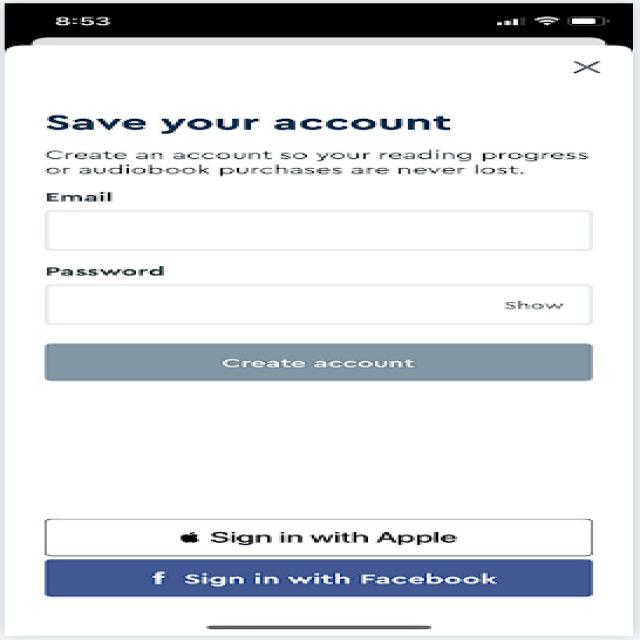button: (36, 338, 607, 392), (21, 556, 612, 604), (24, 513, 607, 557)
icon button: (552, 53, 619, 82)
input: (24, 261, 629, 339), (24, 182, 629, 258)
spacer: (12, 398, 622, 508)
text: (15, 104, 610, 181)
